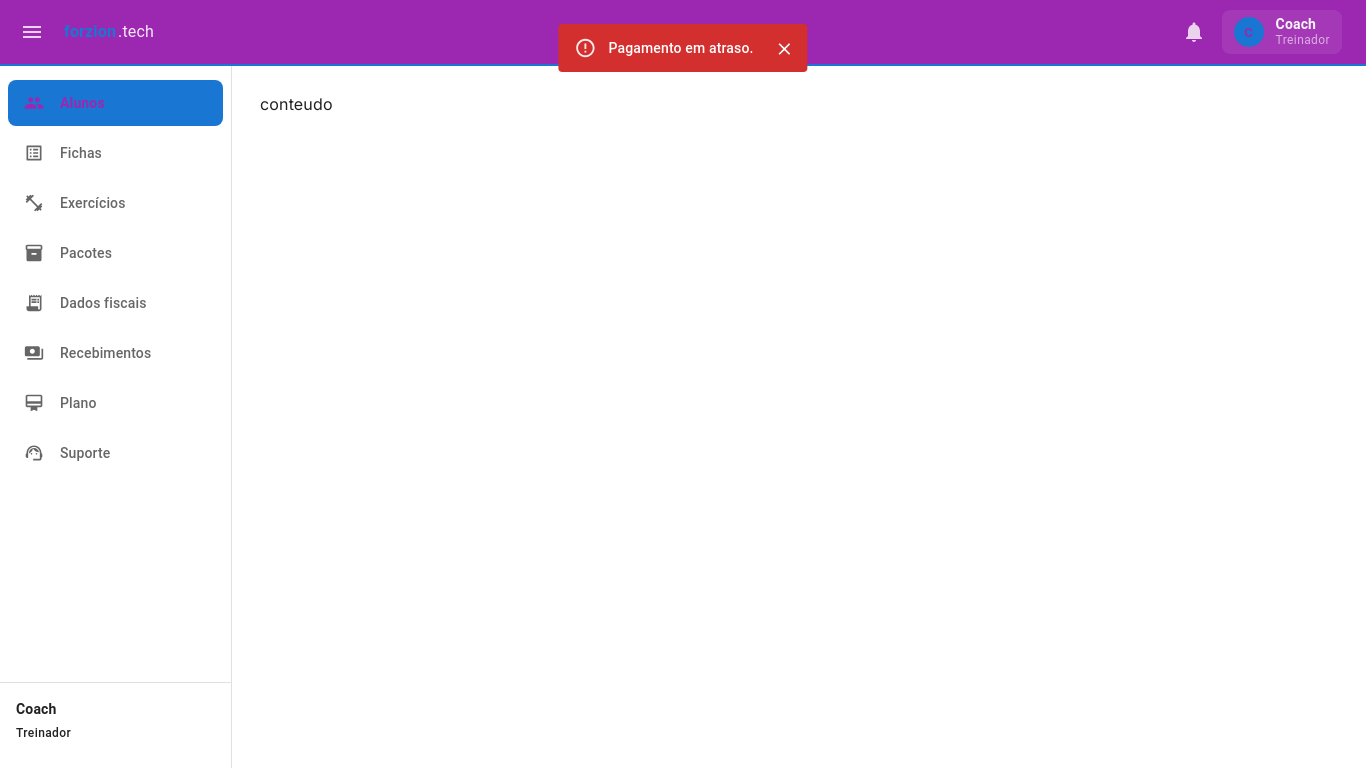
Test: AppLayout — toasts e sessão › evento de inadimplência exibe toast e fecha ao clicar
The width and height of the screenshot is (1366, 768).
Expected: the text "Pagamento em atraso." is shown, [608,40,754,56]
Click the button named "Close". click: (785,49)
box: [770,34,800,64]
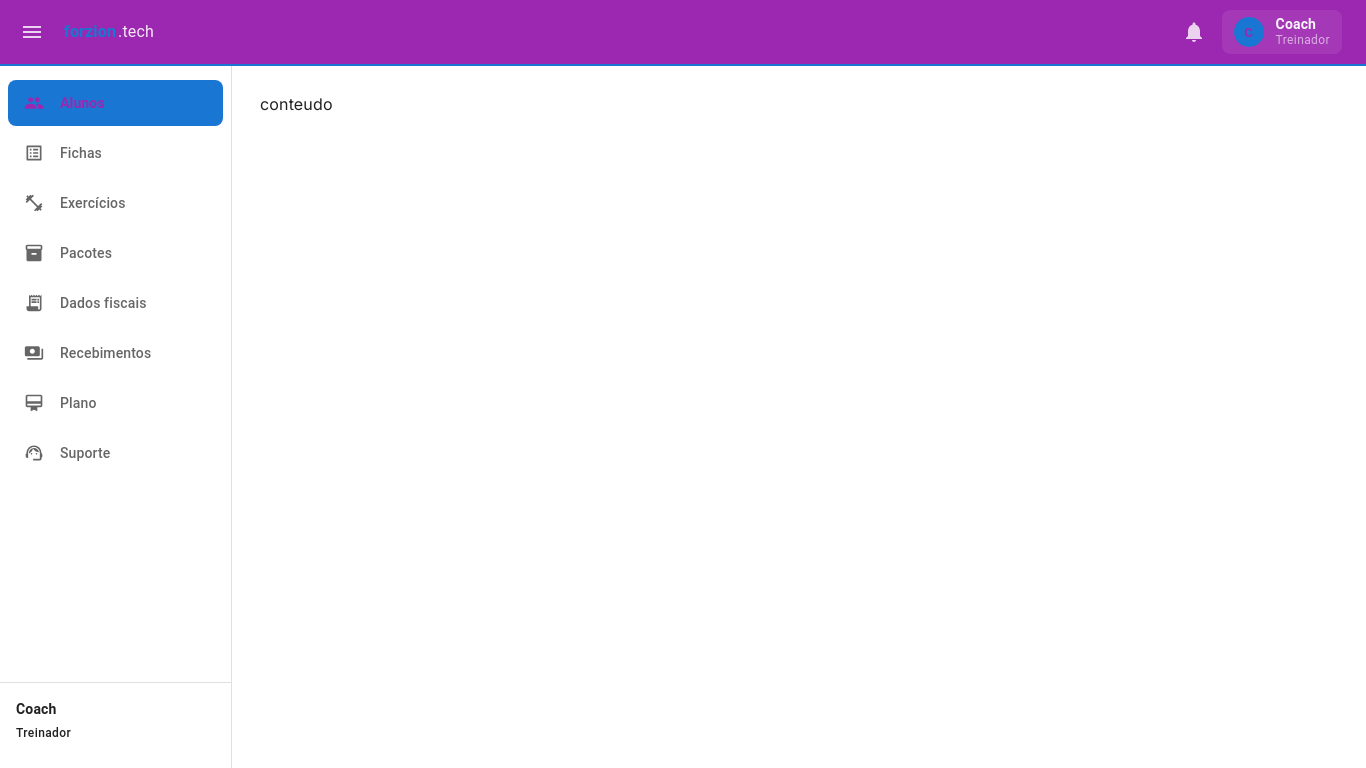
Expected: the text "Pagamento em atraso." is gone
